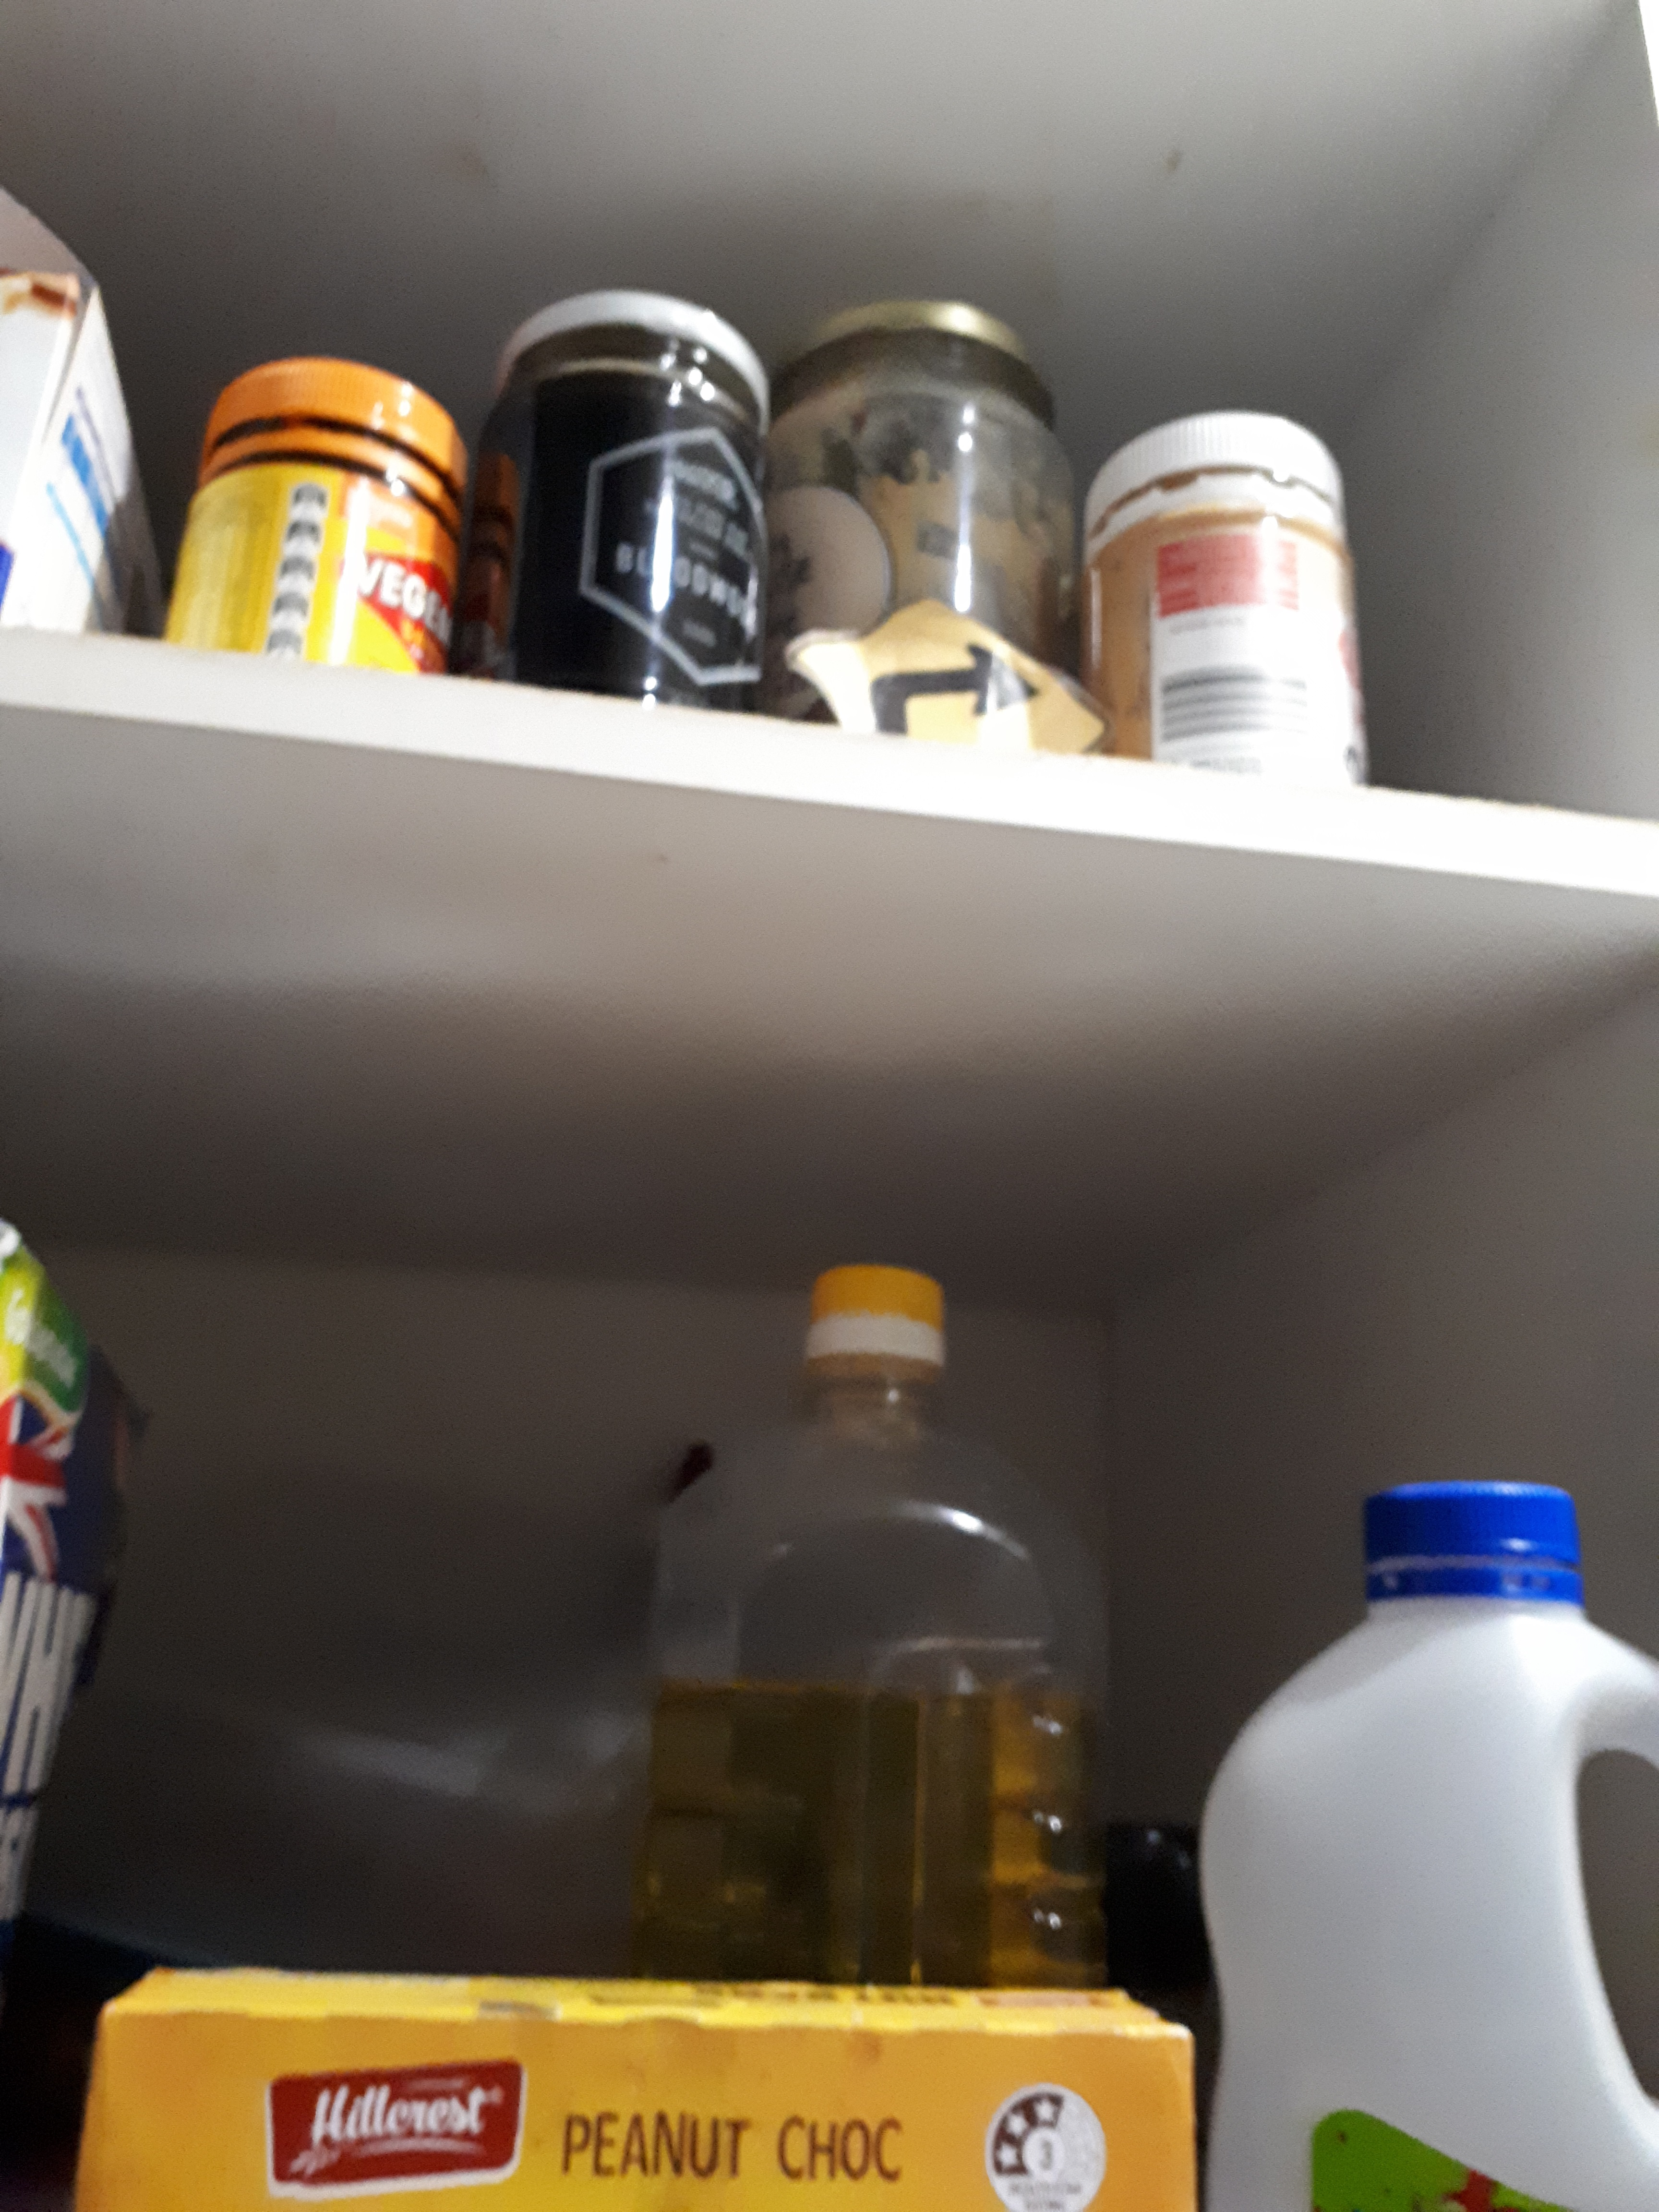right: (793, 564, 1114, 789), (836, 627, 1070, 756)
